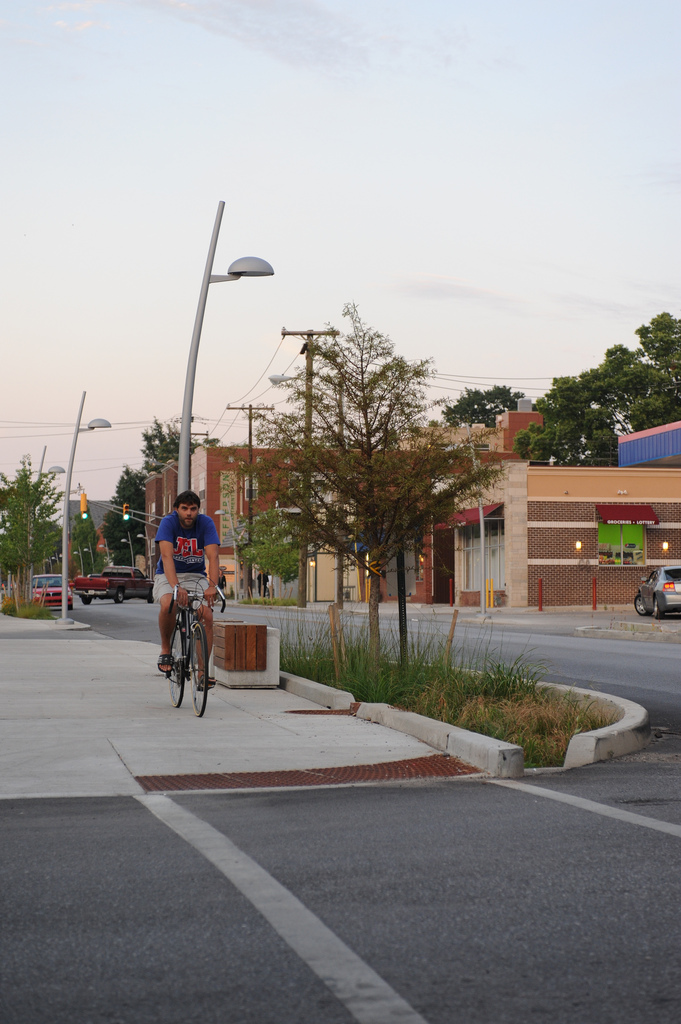Bicycle: (149, 586, 240, 709)
Car: (73, 560, 156, 609), (627, 558, 681, 628), (28, 559, 83, 611)
Lamp: (158, 190, 288, 480), (60, 400, 118, 630)
Tree: (277, 342, 471, 686)
